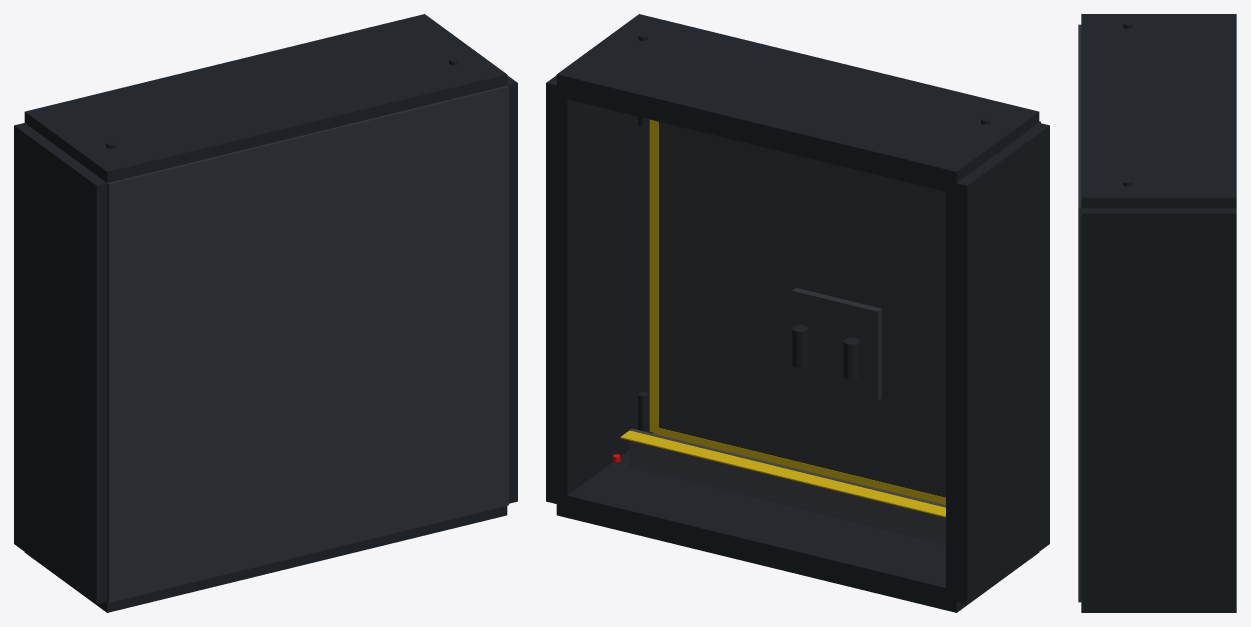
The model's file is containment_vault.obj.
The picture shows the model from 3 angles, left to right: view 1: azimuth 30°, elevation 25°; view 2: azimuth 150°, elevation 25°; view 3: azimuth 270°, elevation 25°; orthographic projection. The views are drawn at different scales.
Visible parts, largest first — view 1: Boss_Arena_Containment_Vault; view 2: Boss_Arena_Containment_Vault; view 3: Boss_Arena_Containment_Vault.
Boxes of the visible parts, x1,y1,x2,y2 form: Boss_Arena_Containment_Vault: (14, 14, 517, 612); Boss_Arena_Containment_Vault: (546, 14, 1049, 612); Boss_Arena_Containment_Vault: (1078, 14, 1236, 612).
Size of the model in its own units: 29.5 by 30 by 10.2.
